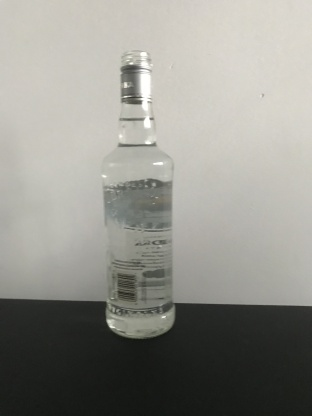nakretka: (118, 49, 154, 104)
